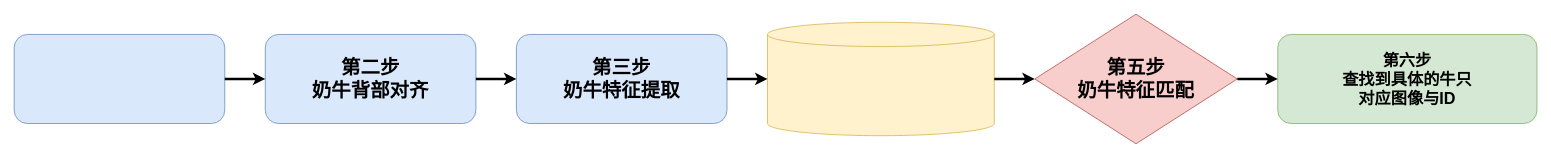
Some shapes in this 1551 by 158 pixel diagram are drawn without their labels. The centre of each missing label's shape, as x and y in pixels:
第一步 奶牛背部检测: pixel 119 79
第四步 奶牛背部特征向量 数据库建立: pixel 880 78
